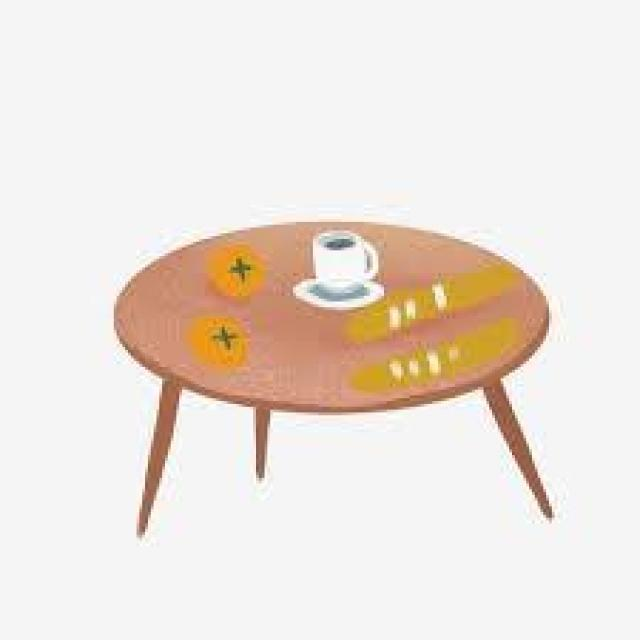table: (71, 153, 578, 569)
